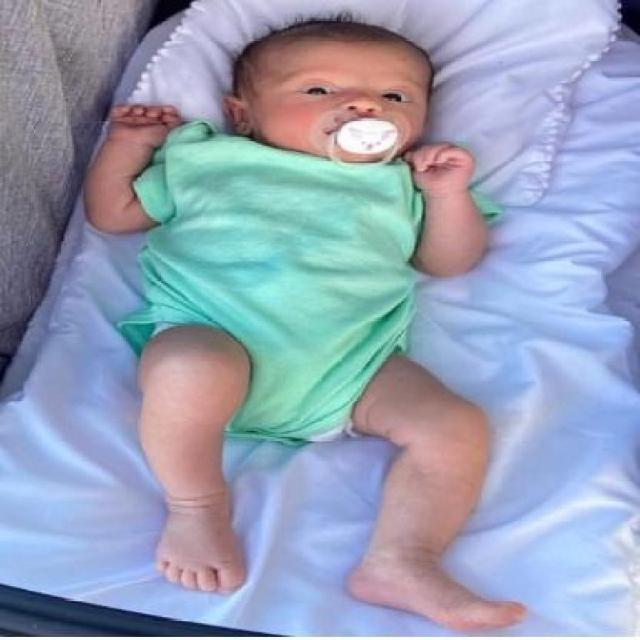baby: (79, 14, 524, 636)
